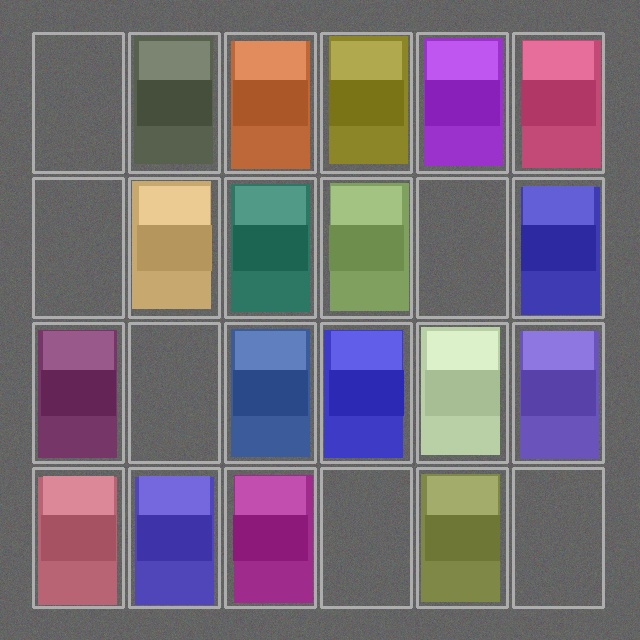space-empty: (35, 35, 121, 170), (35, 180, 121, 315), (419, 180, 505, 315), (131, 325, 217, 460), (323, 470, 409, 605), (515, 470, 601, 605)
space-occupied: (131, 35, 217, 170), (227, 35, 313, 170), (323, 35, 409, 170), (419, 35, 505, 170), (515, 35, 601, 170), (131, 180, 217, 315), (227, 180, 313, 315), (323, 180, 409, 315), (515, 180, 601, 315), (35, 325, 121, 460), (227, 325, 313, 460), (323, 325, 409, 460), (419, 325, 505, 460), (515, 325, 601, 460), (35, 470, 121, 605), (131, 470, 217, 605), (227, 470, 313, 605), (419, 470, 505, 605)
